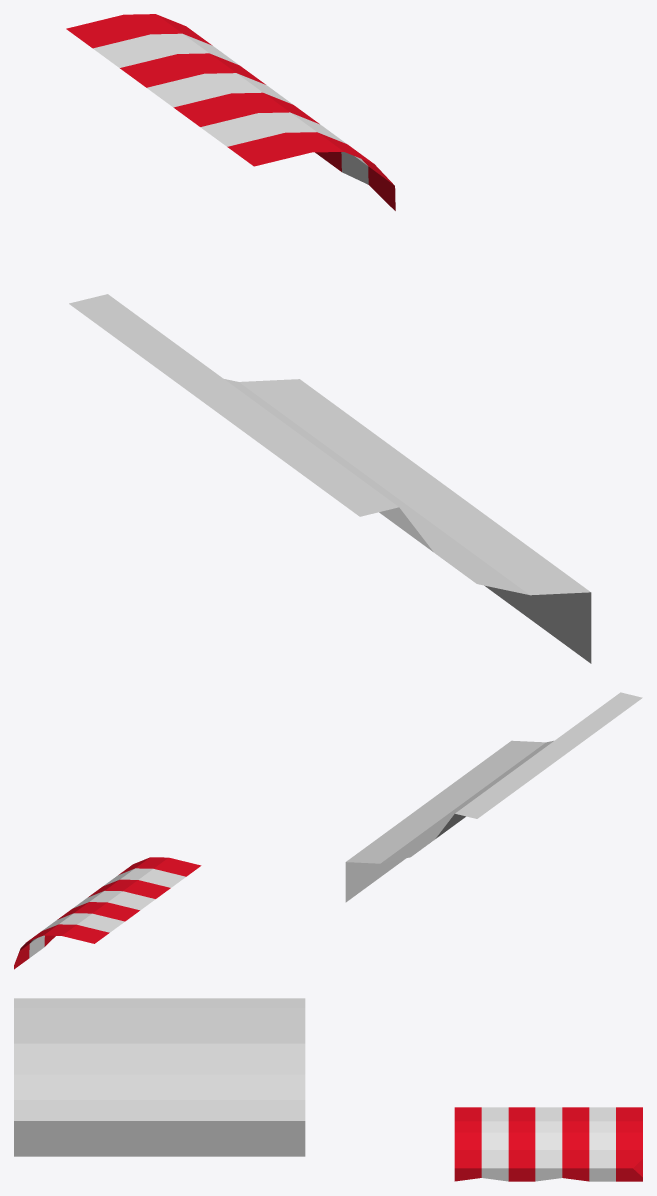
Rendered from canopies.fbx.
The picture shows the model from 3 angles, top to bottom: view 1: azimuth 30°, elevation 25°; view 2: azimuth 150°, elevation 25°; view 3: azimuth 270°, elevation 25°; orthographic projection. The views are drawn at different scales.
Visible parts, largest first — view 1: Plane.034, Plane.032; view 2: Plane.034, Plane.032; view 3: Plane.034, Plane.032.
Boxes of the visible parts, x1=… form: Plane.034: x1=69, y1=294, x2=591, y2=663; Plane.032: x1=66, y1=14, x2=395, y2=210; Plane.034: x1=345, y1=692, x2=642, y2=902; Plane.032: x1=14, y1=857, x2=201, y2=969; Plane.034: x1=14, y1=998, x2=305, y2=1156; Plane.032: x1=454, y1=1107, x2=642, y2=1181.
Bounding box in the file's own units: 394 × 161 × 901.
